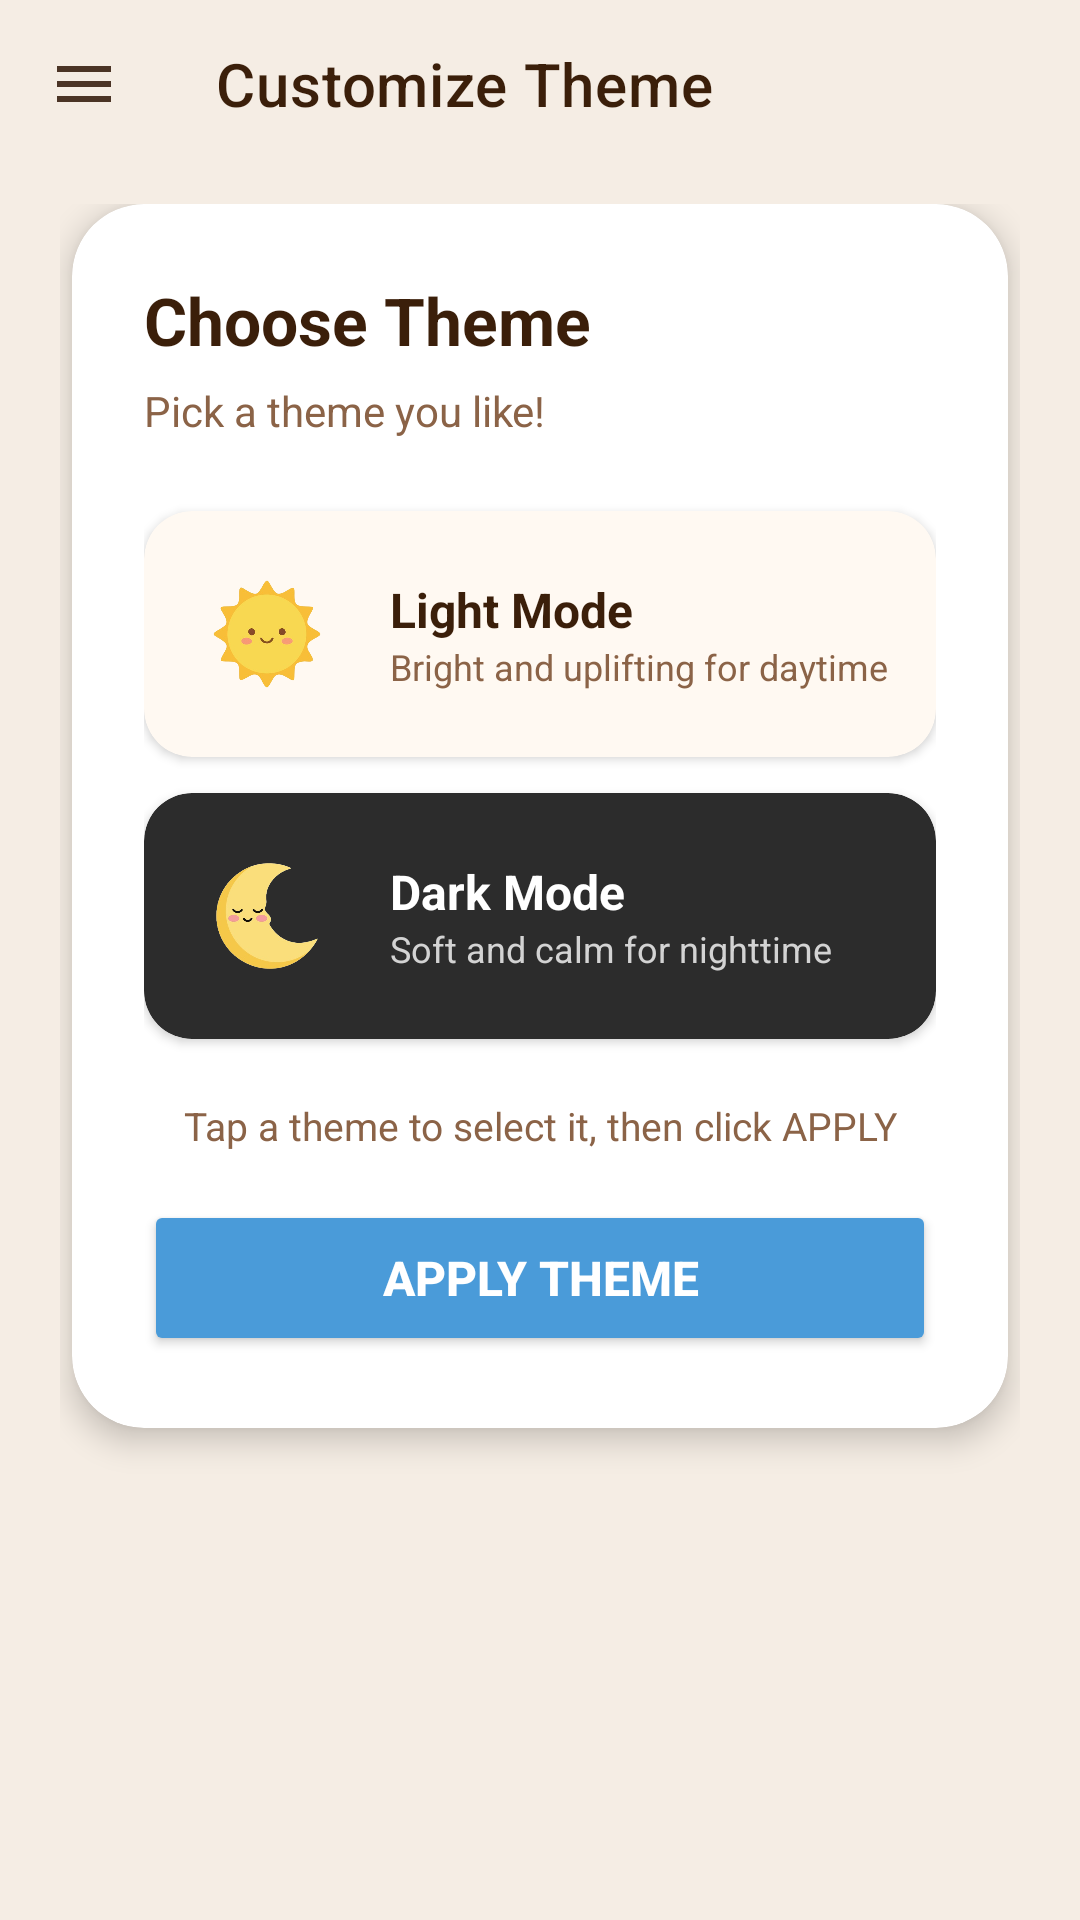

Where to tap for icons on this 1080px x 1920px app screen, as (x=x, y=y):
moon: (x=267, y=916)
sun: (x=267, y=634)
